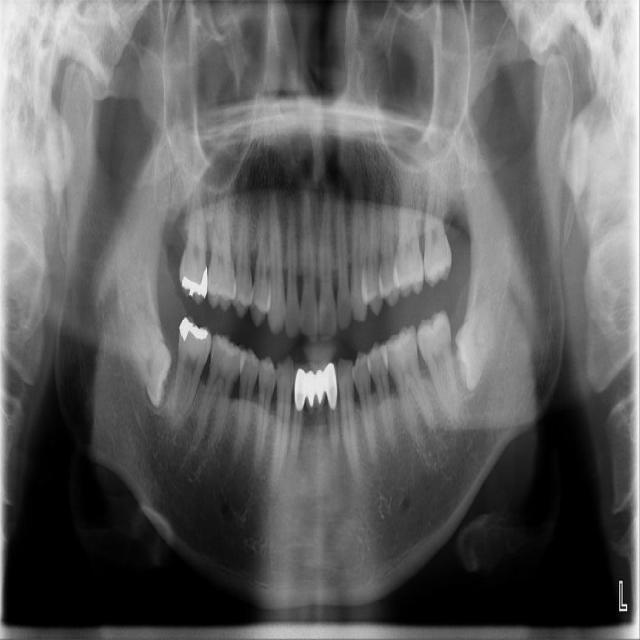52: (167, 311, 226, 368), (293, 361, 337, 411), (179, 247, 208, 305)
73: (606, 590, 610, 606)
BioHorizons Implant: (423, 169, 452, 287)
Biomet 3i Implant: (436, 296, 512, 395)
Blue Sky Bio Implant: (414, 308, 459, 416)
Caries: (177, 172, 209, 305)
Implant: (168, 313, 214, 431)
Keystone Dental Implant: (122, 311, 187, 410)
